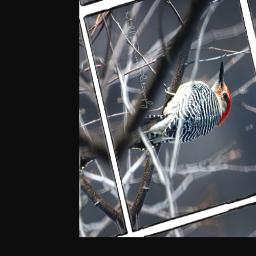Woodpecker: (131, 55, 244, 158)
